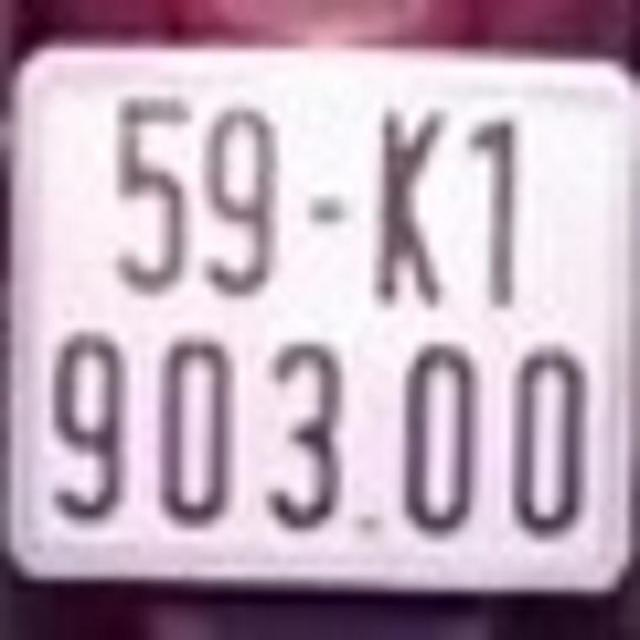0: (404, 340, 478, 532), (156, 336, 232, 522), (512, 347, 583, 543)
1: (466, 116, 520, 308)
3: (267, 338, 338, 532)
5: (112, 91, 188, 296)
9: (201, 104, 274, 298), (52, 330, 119, 517)
K: (375, 107, 449, 312)
